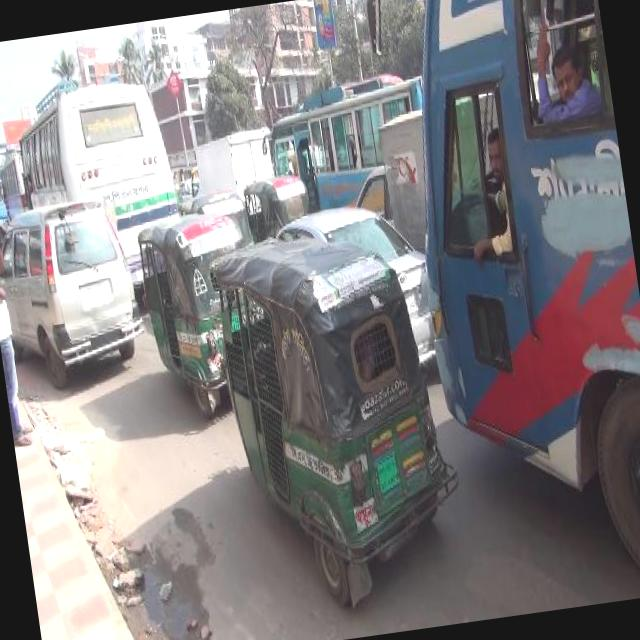bus: (382, 0, 640, 620), (10, 74, 189, 308), (254, 64, 438, 234), (0, 146, 33, 220), (0, 174, 8, 227)
car: (275, 195, 441, 384)
motorcycle: (208, 216, 472, 606), (132, 207, 268, 418), (176, 183, 257, 262), (240, 170, 314, 246)
truck: (0, 191, 146, 390), (340, 98, 456, 303), (183, 126, 279, 205)
